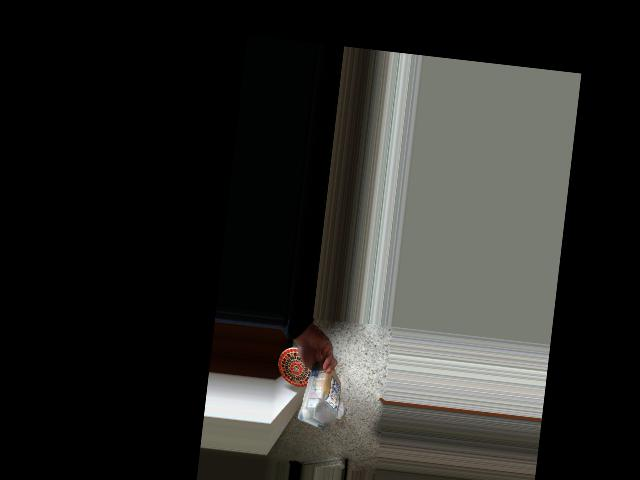cheese: (300, 362, 343, 431)
